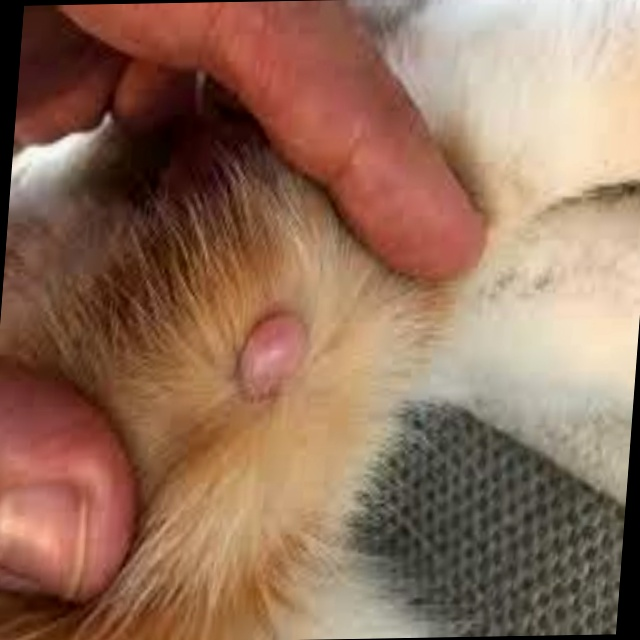lump_and_bump: (233, 314, 311, 398)
